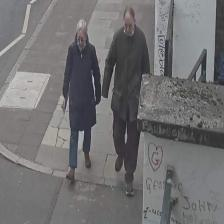person: (101, 6, 150, 195), (62, 18, 101, 179)
